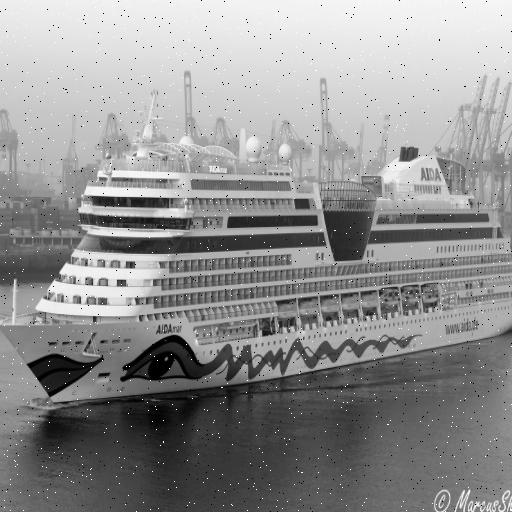cruises: (1, 91, 512, 414)
